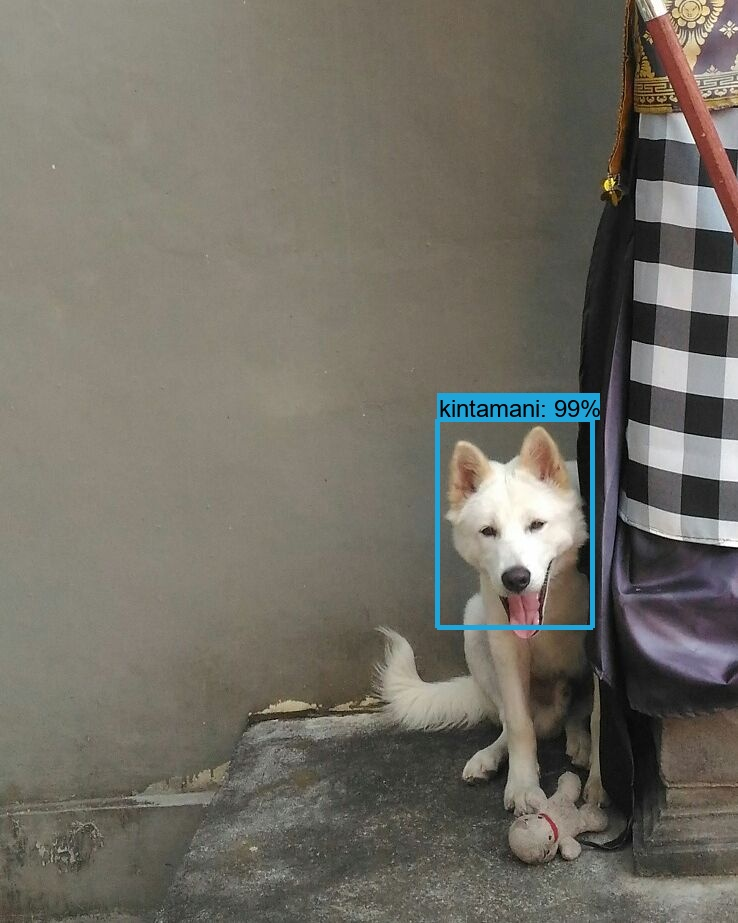kintamani: (439, 424, 582, 638)
